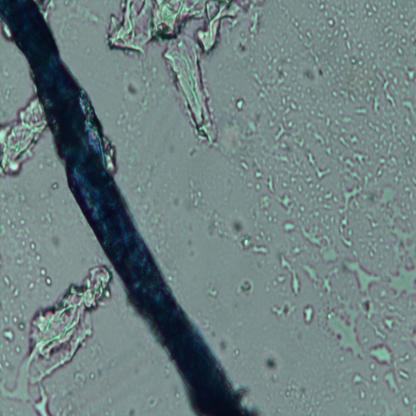Background material: (108, 0, 256, 146), (10, 264, 111, 408), (254, 2, 324, 86), (342, 246, 393, 341), (314, 44, 378, 114), (380, 186, 416, 306), (261, 94, 327, 157), (351, 1, 416, 64), (0, 98, 45, 185), (203, 208, 269, 258), (366, 72, 416, 128), (325, 296, 367, 362), (374, 127, 416, 188), (340, 116, 375, 186), (280, 222, 339, 262), (339, 180, 362, 246), (384, 361, 414, 411), (306, 177, 338, 221), (302, 259, 340, 293), (276, 254, 302, 298), (278, 155, 306, 192), (252, 161, 277, 197), (304, 150, 333, 179), (277, 191, 305, 219), (325, 14, 350, 42), (266, 298, 297, 320), (260, 348, 281, 379), (367, 342, 393, 366), (2, 270, 19, 298), (353, 372, 369, 399), (236, 277, 256, 298), (27, 239, 42, 266), (400, 63, 416, 86), (301, 303, 317, 325), (0, 329, 15, 352), (41, 266, 53, 286), (14, 314, 27, 332), (234, 96, 247, 114), (206, 284, 218, 300)
Cotton: (0, 0, 256, 414)
